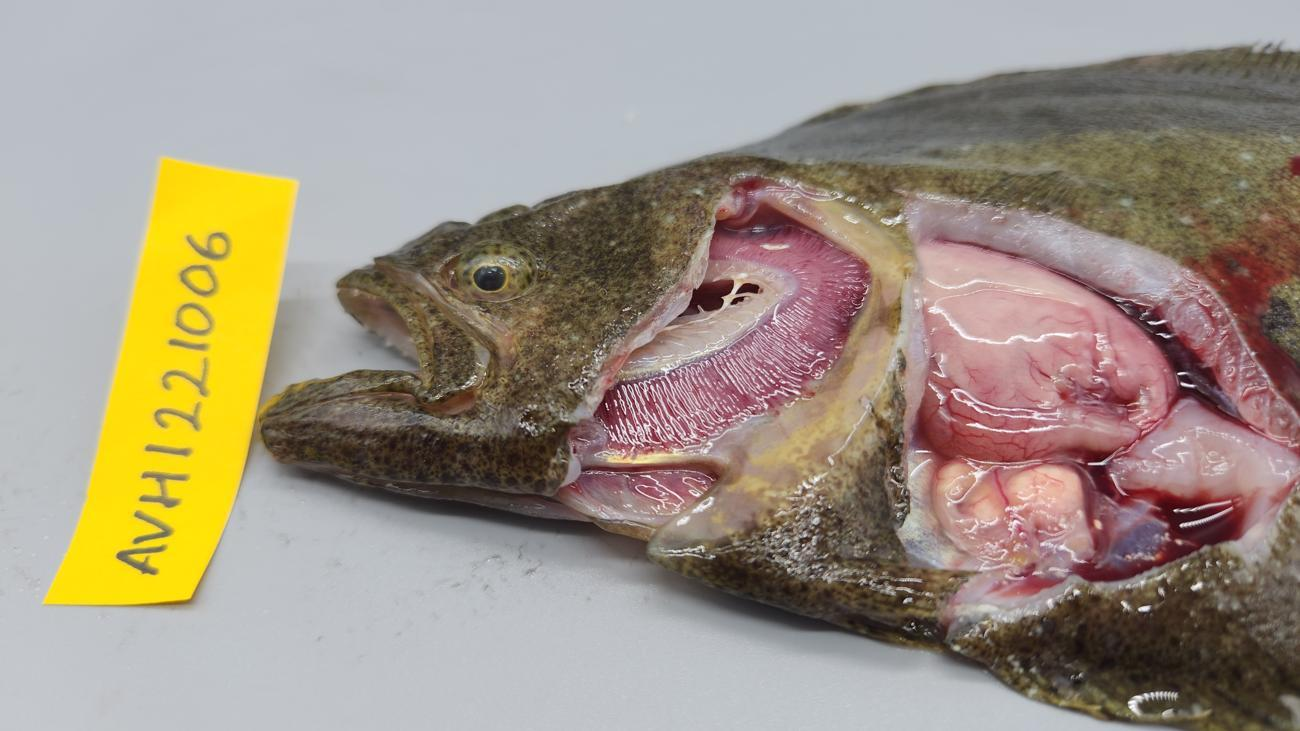VIGIP: (595, 225, 871, 450)
VILIC: (922, 362, 1034, 454)
VILII: (1036, 309, 1170, 423)
